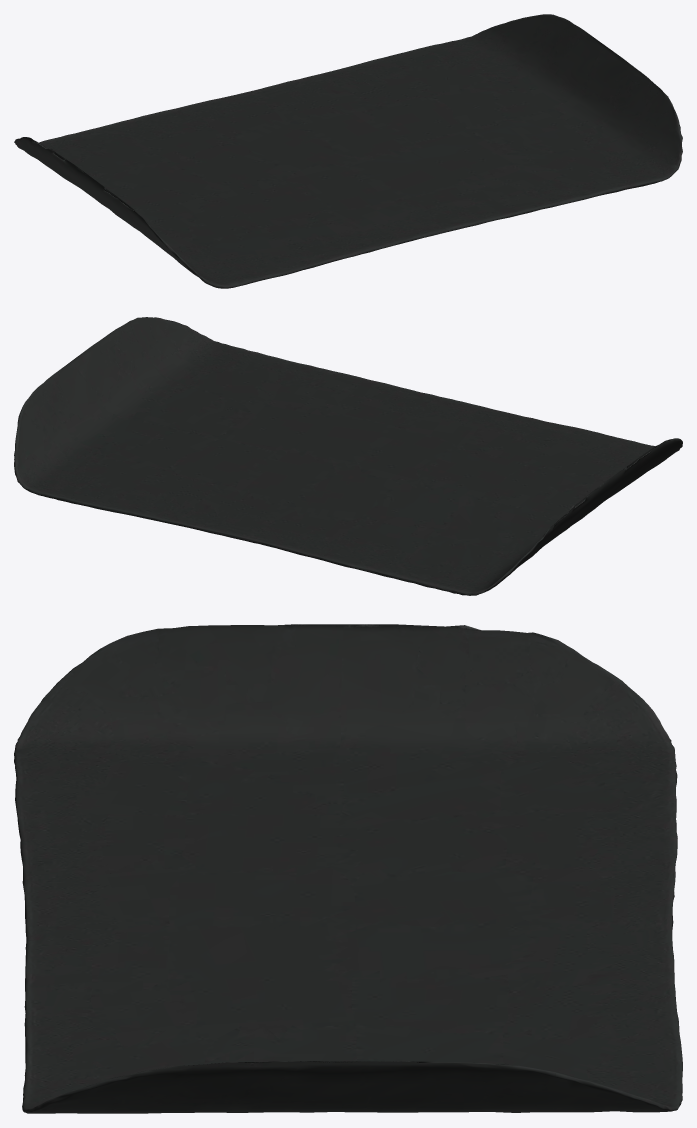
File: DEMO-P027.glb
3 renders of one model, top to bottom at view 1: azimuth 30°, elevation 25°; view 2: azimuth 150°, elevation 25°; view 3: azimuth 270°, elevation 25°, orthographic. The views are drawn at different scales.
Size of the model in its own units: 1 by 0.1032 by 0.6572.
Materials: 1 (1 with a texture image).
